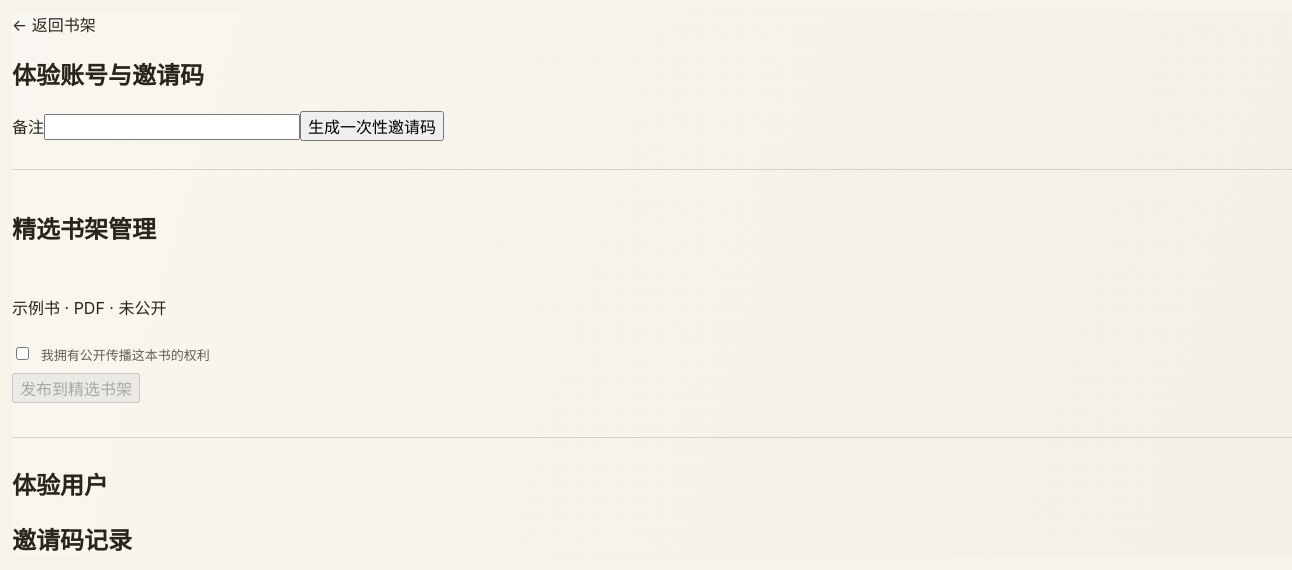
Test: AdminExperience › requires rights confirmation before publishing a ready book
Later steps or results of the test are not shown.
expect the button "发布到精选书架" is disabled: met, box [12, 373, 140, 403]
Click the checkbox labelled "我拥有公开传播这本书的权利" at coordinates (22, 353), box [16, 347, 29, 360]
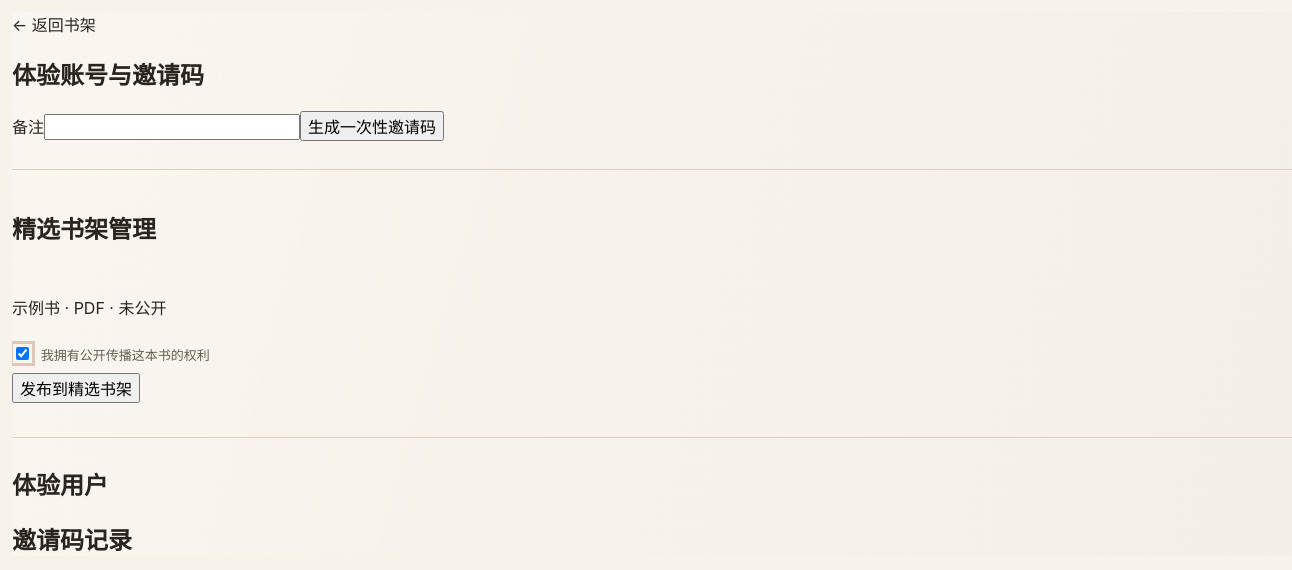
expect the button "发布到精选书架" is enabled: met, box [12, 373, 140, 403]
